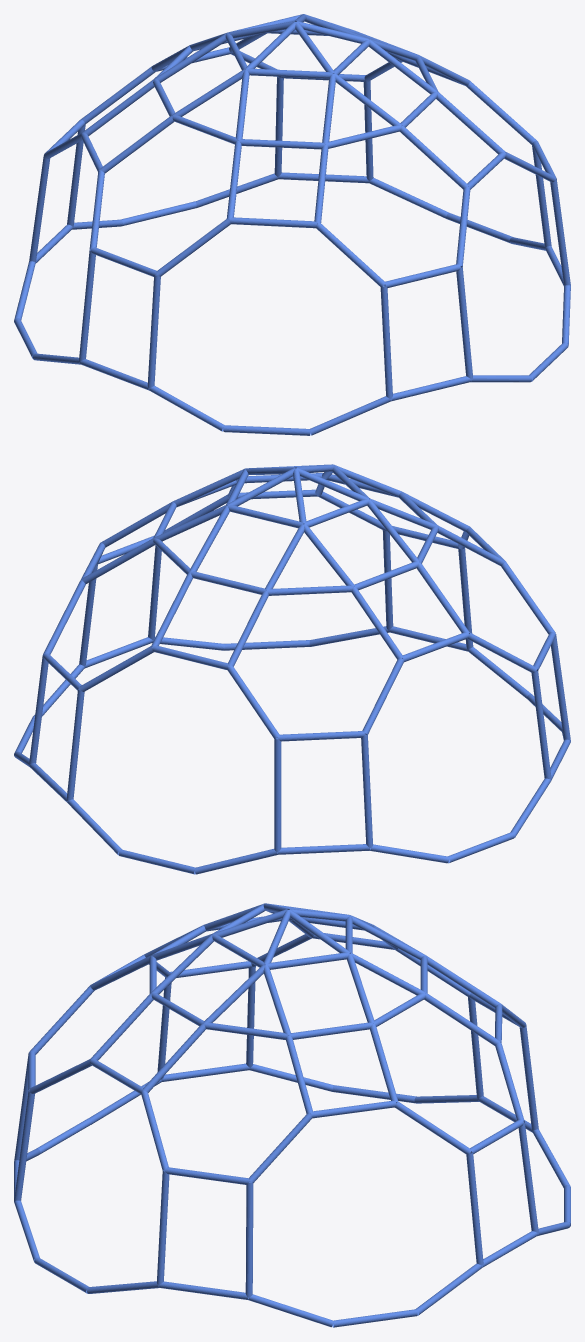
The model's file is trinexus4_1a.glb.
3 views of the same model, one above another, from view 1: azimuth 30°, elevation 25°; view 2: azimuth 150°, elevation 25°; view 3: azimuth 270°, elevation 25° (orthographic).
Parts seen in each view (by area): view 1: Mesh_144.004; view 2: Mesh_144.004; view 3: Mesh_144.004.
Part boxes in pixels (x1,y1,x2,y2): Mesh_144.004: (14, 14, 570, 435); Mesh_144.004: (14, 464, 570, 874); Mesh_144.004: (14, 903, 570, 1327).
Size of the model in its own units: 9.62 by 5.64 by 9.49.
